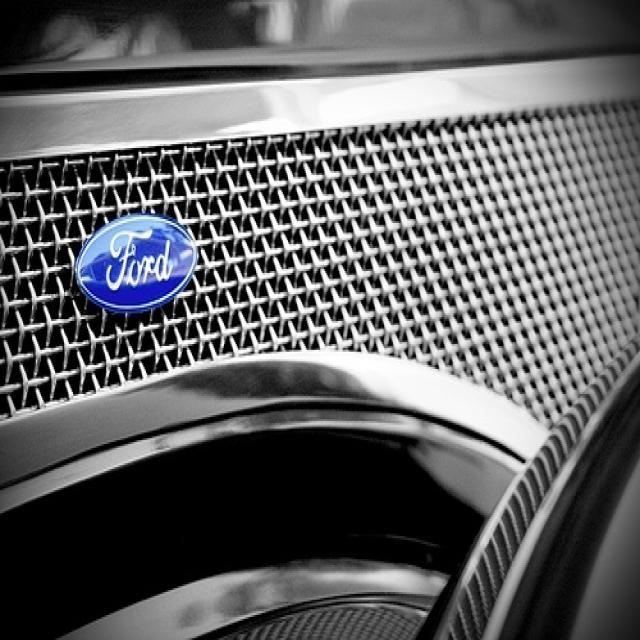ford: (75, 209, 202, 320)
